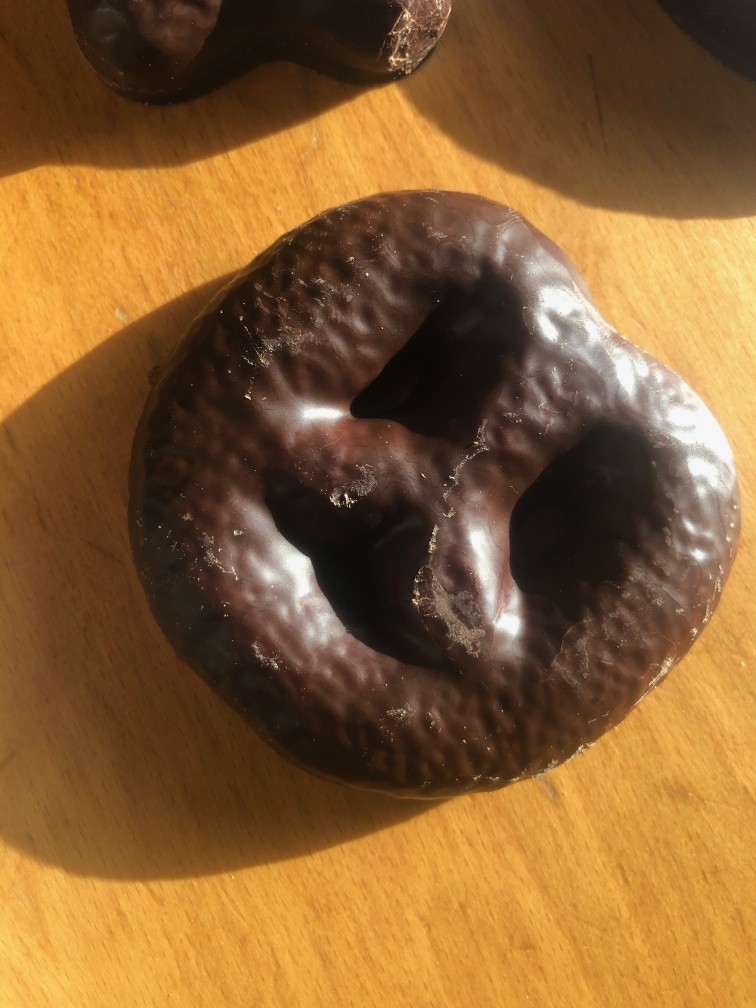bretzel: (127, 195, 745, 811)
